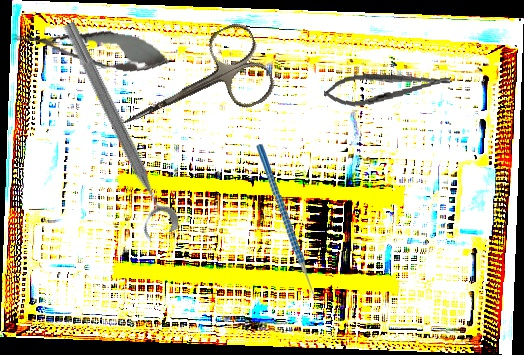Chopper: (255, 142, 328, 305)
Fixation Ring: (45, 17, 183, 244)
Iris Scissors: (103, 18, 280, 160)
Micro Scissor: (9, 16, 175, 80)
Needle Holder: (322, 64, 454, 111)
